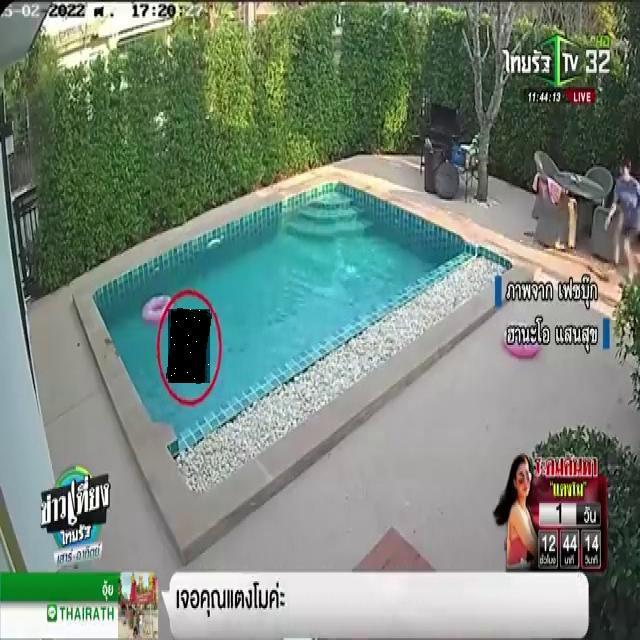Out of Water: (168, 309, 210, 383)
